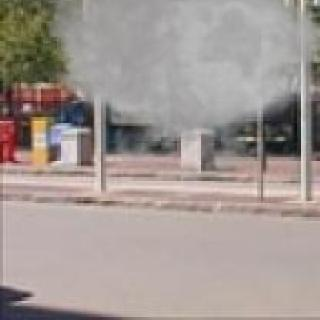smoke: (15, 0, 320, 155)
